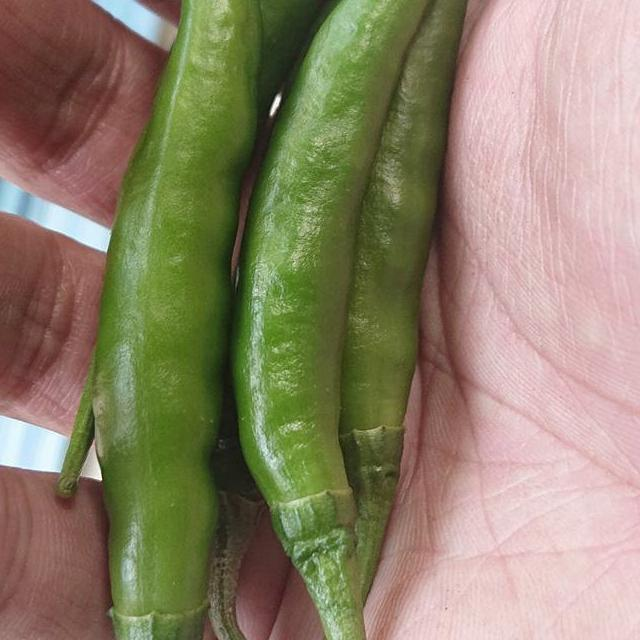chili_pepper: (57, 0, 261, 640), (233, 0, 433, 640), (340, 0, 468, 596)
